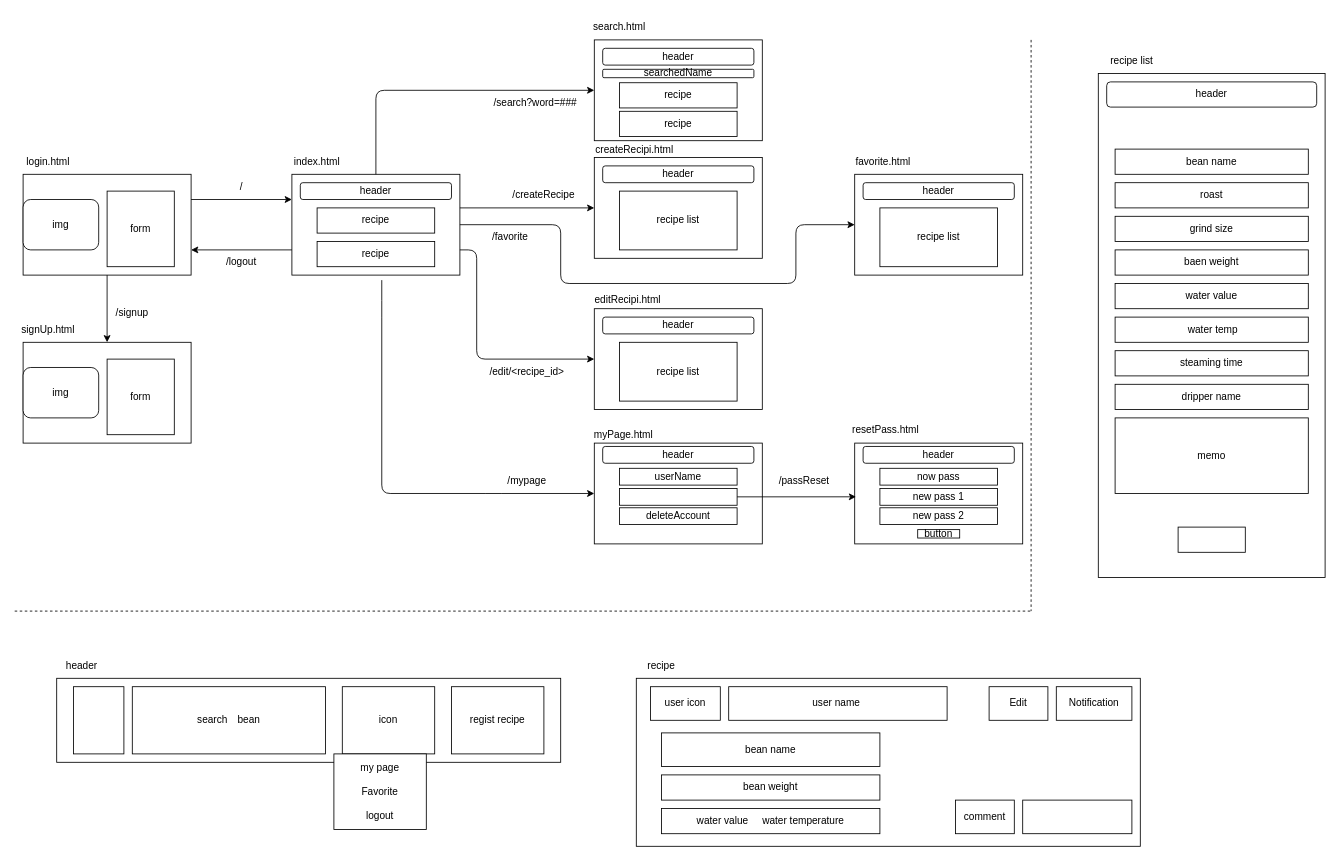
Image size: 1340x861. Some labels were removed from this diagram. Each missing label, with the centre of its shape:
"Favorite or delete" belongs at point 1077,816.
"logo" belongs at point 98,720.
"resetPassword" belongs at point 678,496.
"save" belongs at point 1211,539.
